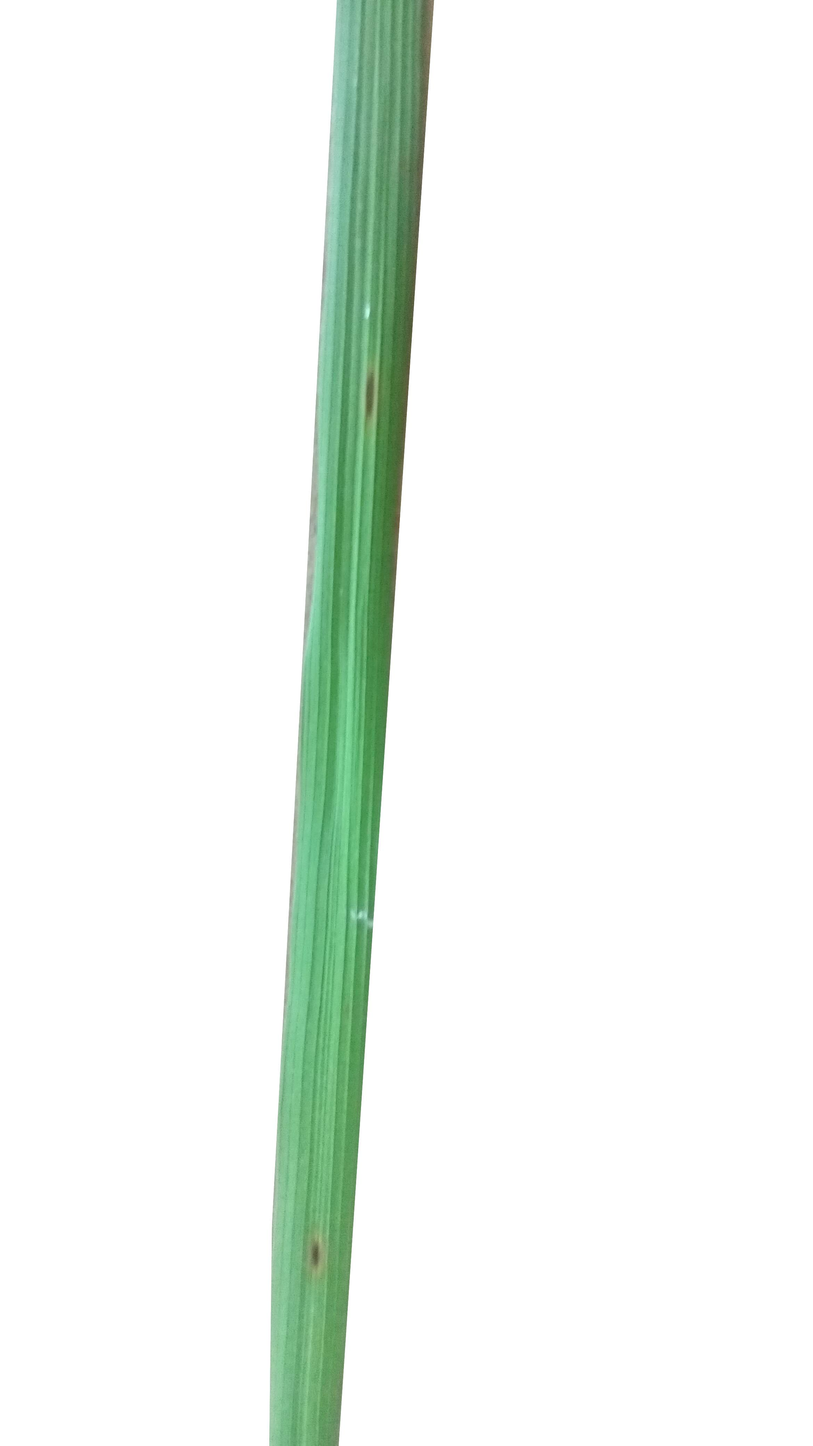Brown spot: (347, 348, 396, 414)
